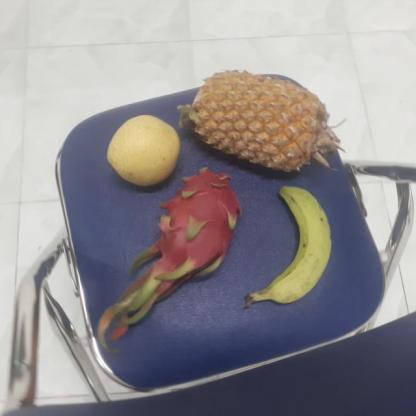banana: (251, 180, 336, 306)
pear: (104, 114, 182, 188)
pineapple: (186, 70, 338, 176)
pitaya: (150, 167, 240, 275)
